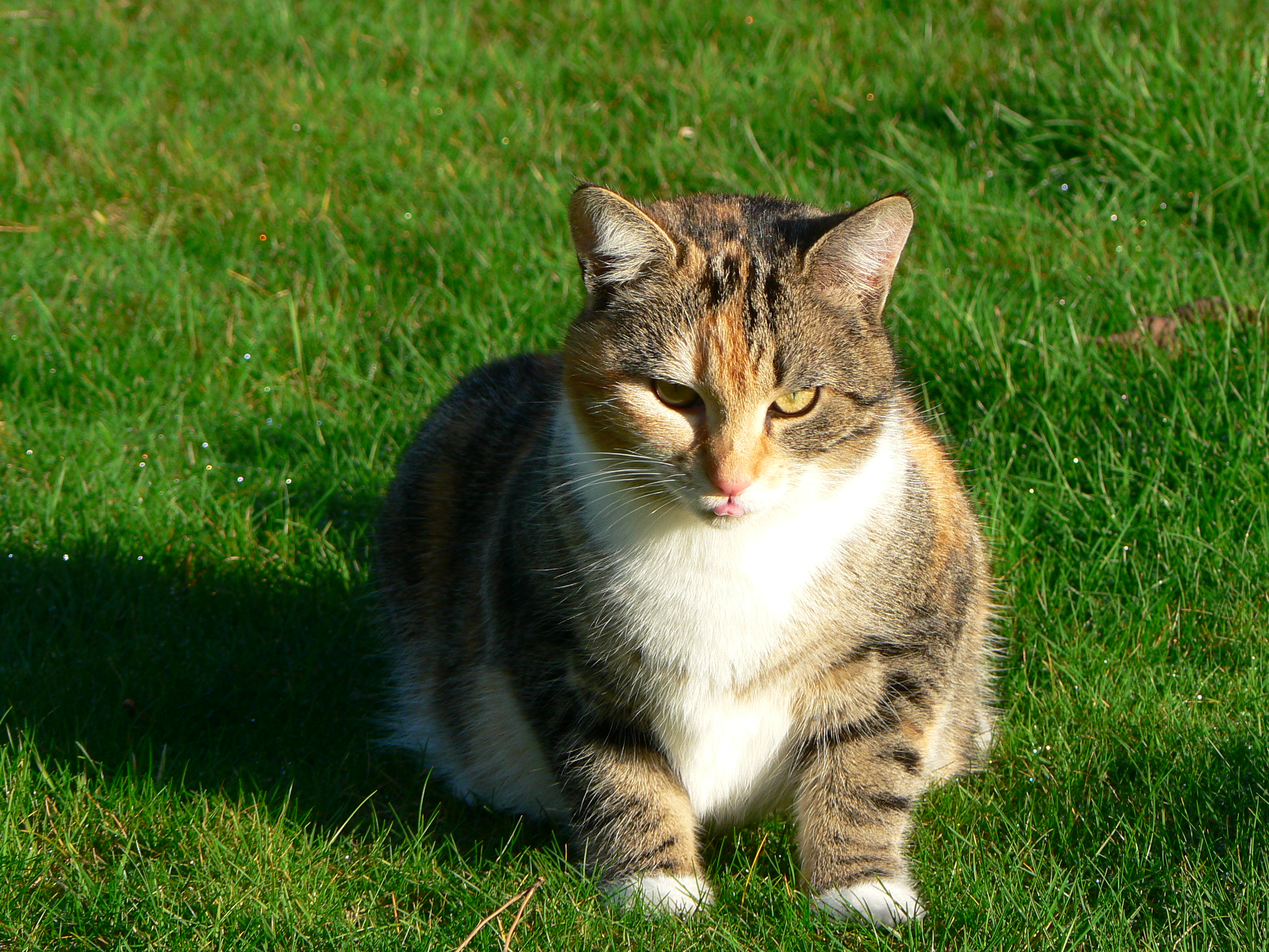cat: (370, 173, 1008, 926)
